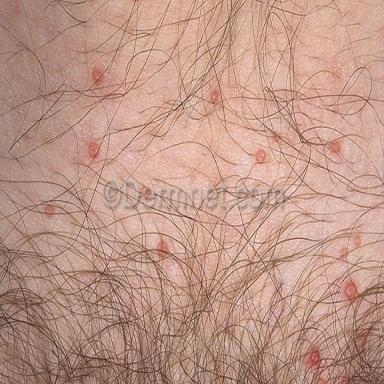Molluscum-Contagiosum: (91, 66, 104, 87), (157, 240, 169, 260), (88, 141, 100, 159), (345, 283, 356, 300), (309, 349, 320, 365), (44, 204, 55, 219), (256, 149, 266, 164), (211, 90, 219, 104), (333, 141, 341, 154), (354, 235, 361, 246), (340, 247, 347, 256)
